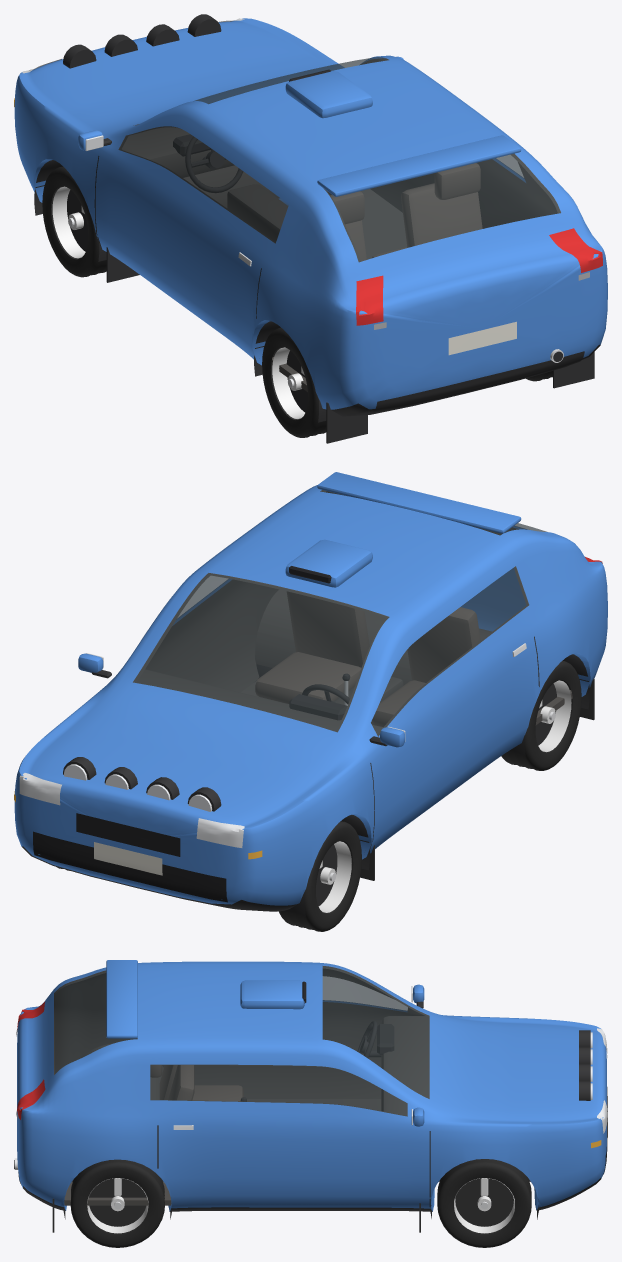
The model's file is mistral_r5.glb.
3 renders of one model, top to bottom at view 1: azimuth 30°, elevation 25°; view 2: azimuth 150°, elevation 25°; view 3: azimuth 270°, elevation 25°, orthographic. The views are drawn at different scales.
Visible parts, largest first — view 1: Body, Glass, Interior, Wheel_FL, Wheel_RL, Lights_Tail, SteeringWheel; view 2: Body, Glass, Interior, Wheel_FL, Wheel_RL, Lights_Head; view 3: Body, Glass, Interior, Wheel_FR, Wheel_RR, Lights_Tail, Lights_Head, SteeringWheel.
Boxes of the visible parts, x1,y1,x2,y2 form: Body: (14, 14, 607, 443); Glass: (119, 57, 560, 262); Interior: (118, 58, 560, 392); Wheel_FL: (42, 166, 106, 277); Wheel_RL: (262, 327, 326, 437); Lights_Tail: (356, 228, 602, 325); SteeringWheel: (185, 136, 243, 193); Body: (14, 472, 607, 916); Glass: (133, 490, 546, 736); Interior: (133, 490, 572, 736); Wheel_FL: (278, 821, 361, 931); Wheel_RL: (501, 660, 581, 770); Lights_Head: (19, 764, 244, 847); Body: (14, 960, 607, 1232); Glass: (54, 966, 429, 1116); Interior: (54, 966, 431, 1205); Wheel_FR: (437, 1159, 531, 1247); Wheel_RR: (70, 1159, 164, 1247); Lights_Tail: (17, 1001, 45, 1119); Lights_Head: (590, 1028, 607, 1133); SteeringWheel: (357, 1021, 377, 1057).
Bounding box in the file's own units: 2.18 × 1.58 × 4.15.
